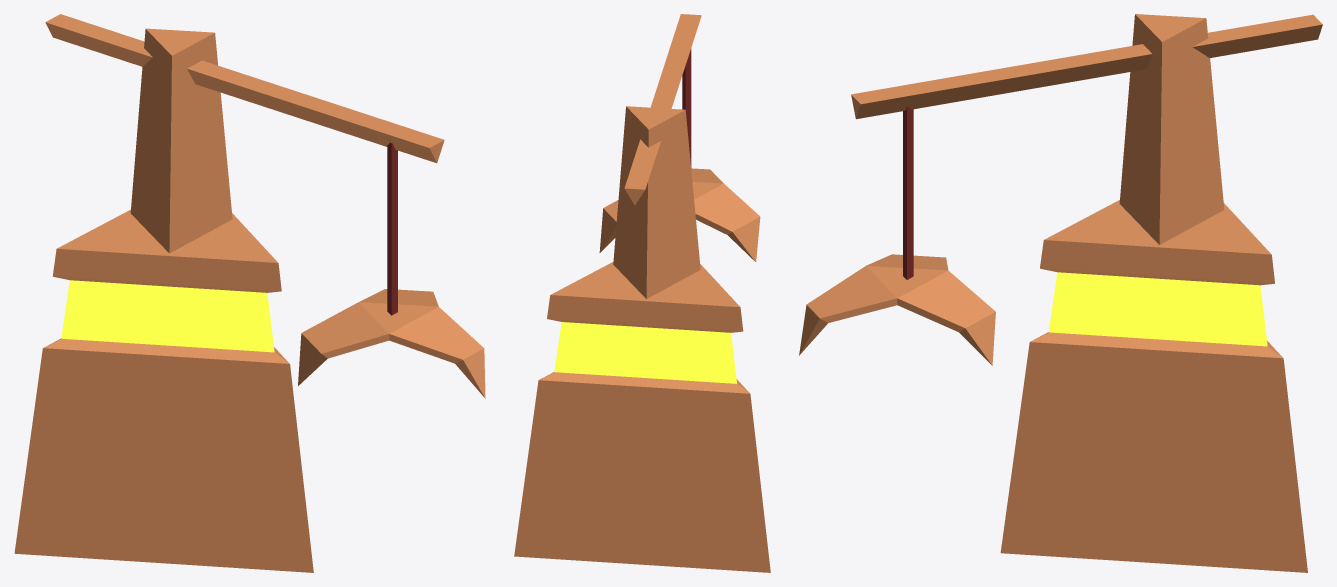
The model's file is Pests-TrashCollector.fbx.
3 renders of one model, left to right at view 1: azimuth 30°, elevation 25°; view 2: azimuth 150°, elevation 25°; view 3: azimuth 270°, elevation 25°, orthographic. The views are drawn at different scales.
Visible parts, largest first — view 1: Pests-Trash_Collector; view 2: Pests-Trash_Collector; view 3: Pests-Trash_Collector.
Boxes of the visible parts, <box> form: Pests-Trash_Collector: <box>14,14,485,572</box>; Pests-Trash_Collector: <box>514,14,770,572</box>; Pests-Trash_Collector: <box>799,14,1322,572</box>.
Bounding box in the file's own units: 0.4569 × 0.657 × 0.6931.
